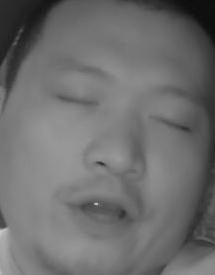blink: (148, 108, 191, 135), (57, 92, 97, 111)
mouth: (63, 184, 140, 234)
